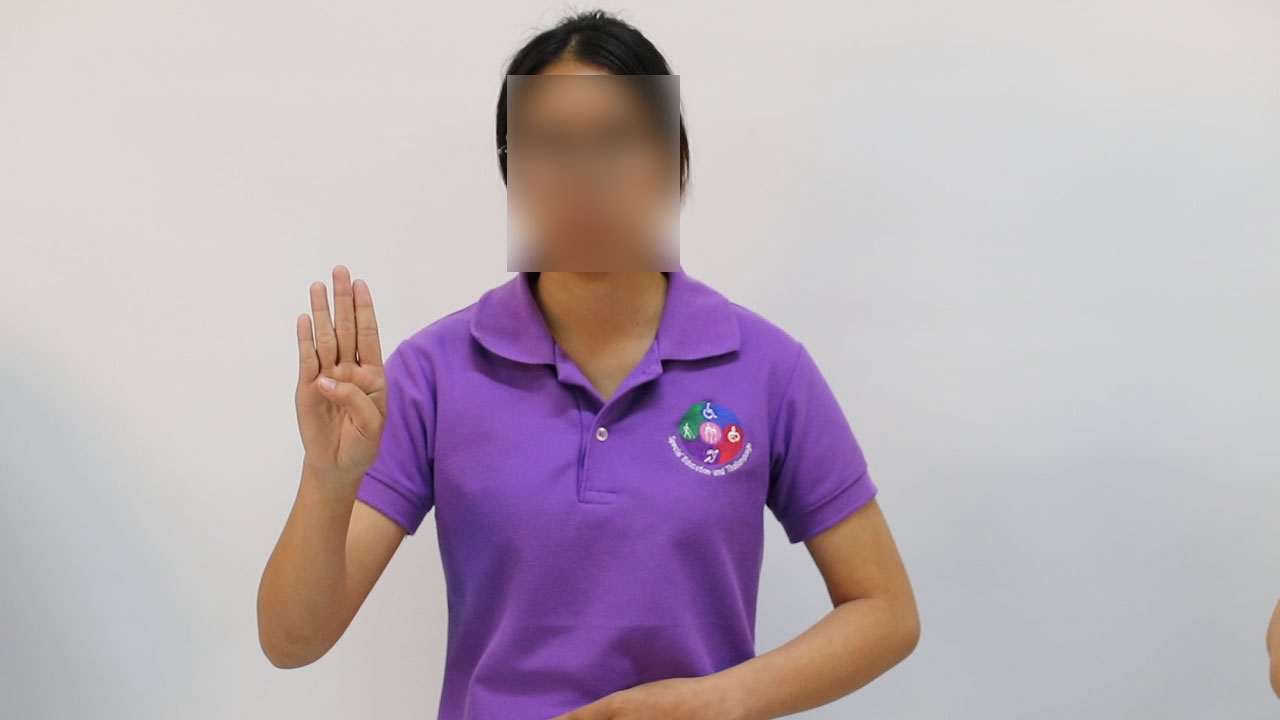bor: (277, 255, 403, 504)
